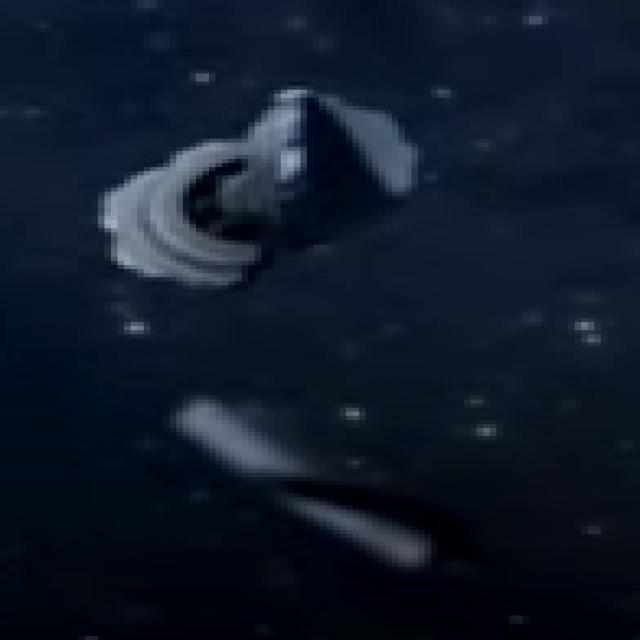medium_debris: (85, 79, 419, 284), (176, 402, 442, 567)
